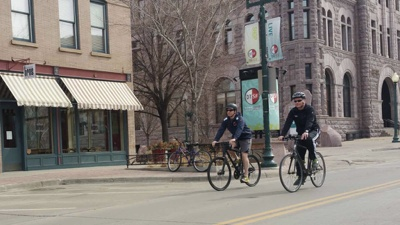helmet: (291, 89, 308, 111), (224, 99, 239, 122)
